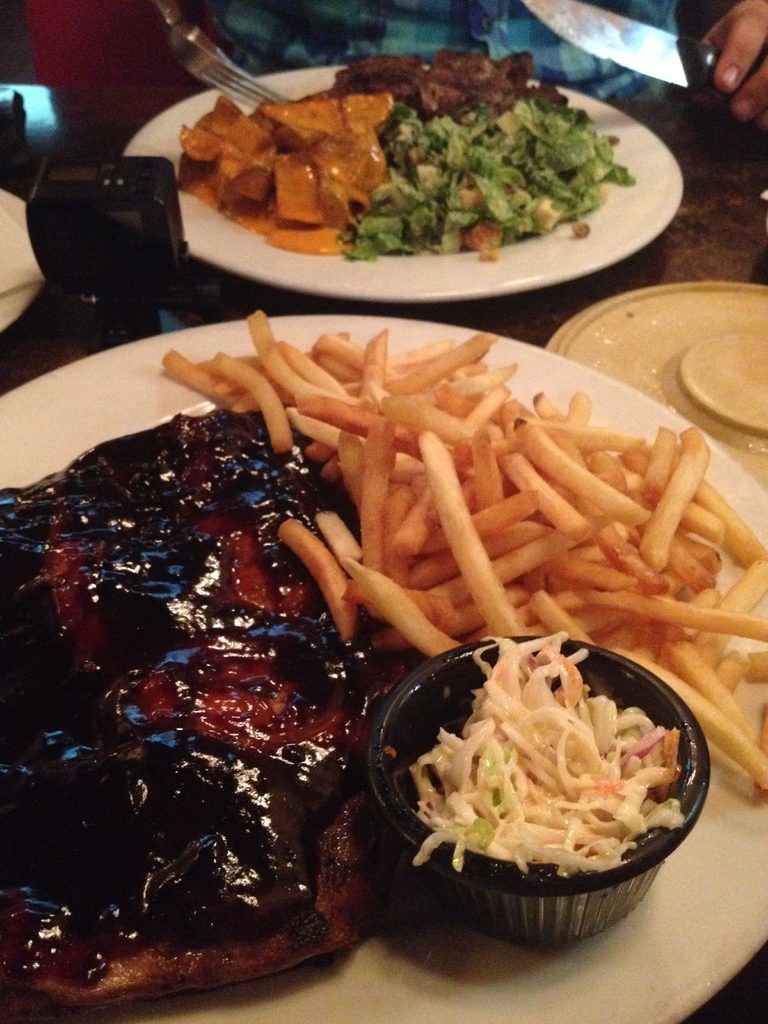French fries: (227, 317, 737, 659)
